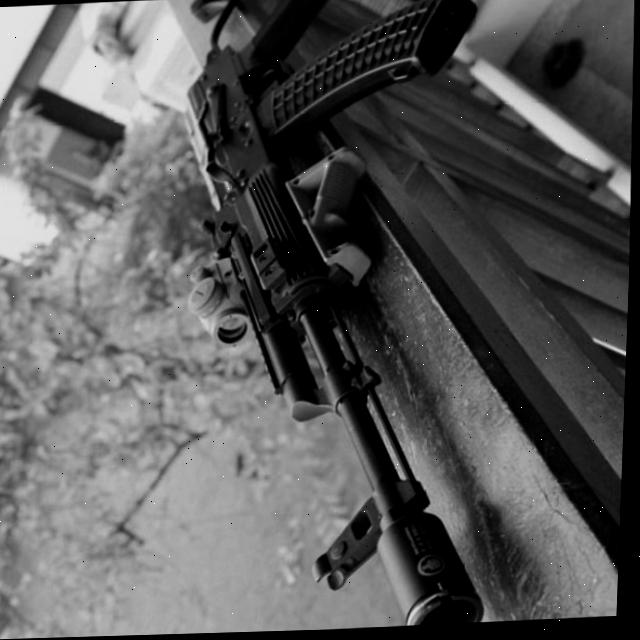firearm: (166, 0, 508, 636)
